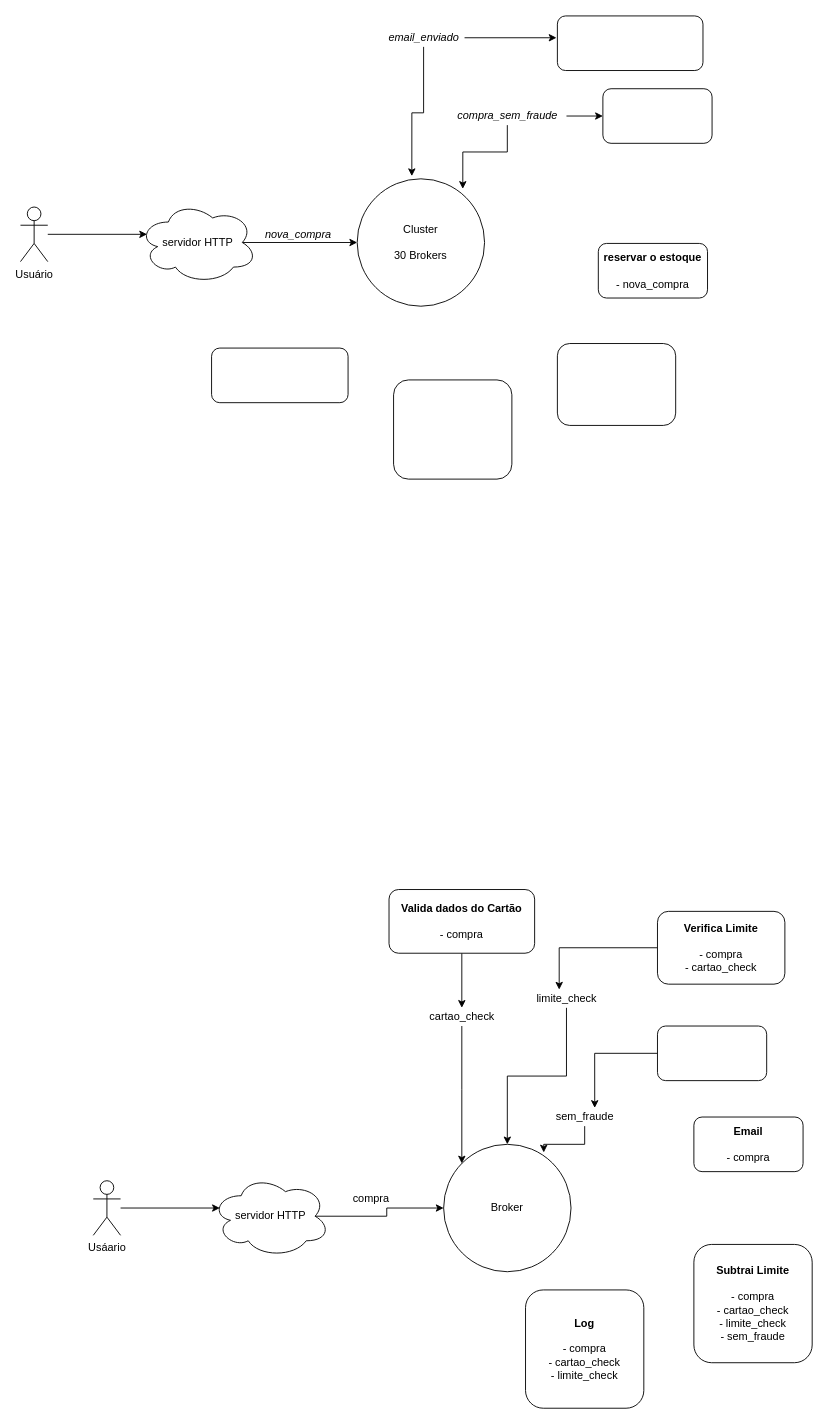
Image size: 828x1424. Some labels were removed from this diagram. The centre of each missing label's shape, as x and y in pixels:
"analytics - nova_compra - email_enviado - compra_sem_fraude" goes at (616,384).
"efetua compra - compra_sem_fraude" goes at (279,375).
"email - nova_compra" goes at (629,43).
"Fraude? - compra" goes at (712,1053).
"fraude? - nova_compra" goes at (657,115).
"Log - nova_compra - email_enviado - compra_sem_fraude" goes at (452,429).
